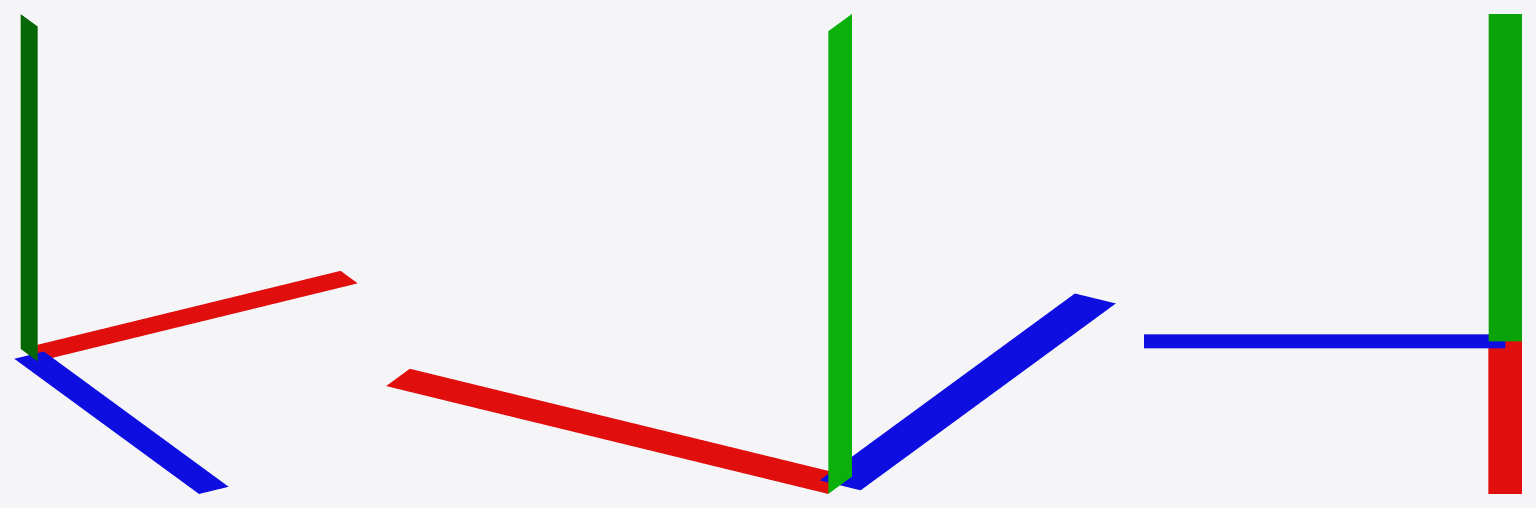
Rendered from axismm.dae.
3 renders of one model, left to right at view 1: azimuth 30°, elevation 25°; view 2: azimuth 150°, elevation 25°; view 3: azimuth 270°, elevation 25°, orthographic. The views are drawn at different scales.
Visible parts, largest first — view 1: SketchUp (×3); view 2: SketchUp (×3); view 3: SketchUp (×3).
Part boxes in pixels (x1,y1,x2,y2): SketchUp (×3): [14, 14, 356, 493]; SketchUp (×3): [386, 14, 1115, 493]; SketchUp (×3): [1144, 14, 1521, 493].
Size of the model in its own units: 4.12 by 4.12 by 3.94.
